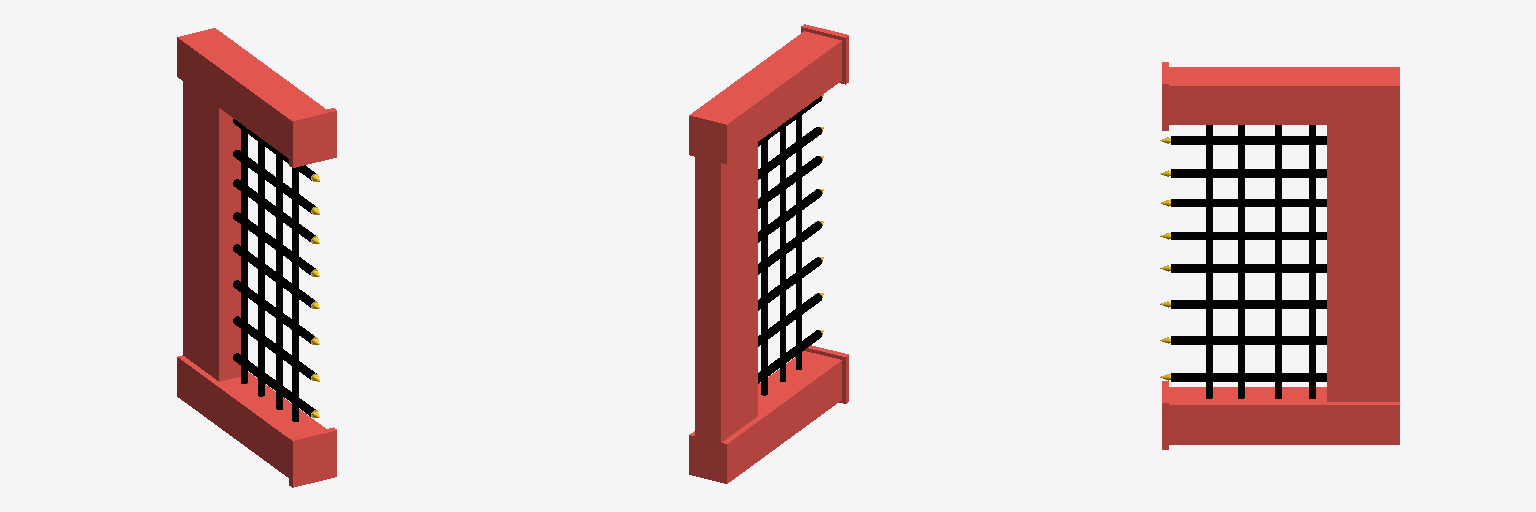
Rendered from grade.obj.
3 views of the same model, side by side, from view 1: azimuth 30°, elevation 25°; view 2: azimuth 150°, elevation 25°; view 3: azimuth 270°, elevation 25° (orthographic).
Parts seen in each view (by area): view 1: Cube.004, Cylinder.001; view 2: Cube.004, Cylinder.001; view 3: Cube.004, Cylinder.001.
Part boxes in pixels (left/top/right/bottom): Cube.004: left=177, top=28, right=336, bottom=487; Cylinder.001: left=233, top=119, right=319, bottom=421; Cube.004: left=689, top=24, right=848, bottom=483; Cylinder.001: left=758, top=94, right=823, bottom=395; Cube.004: left=1162, top=62, right=1399, bottom=449; Cylinder.001: left=1160, top=125, right=1326, bottom=398.
Bounding box in the file's own units: 5.67 × 44.32 × 26.24.